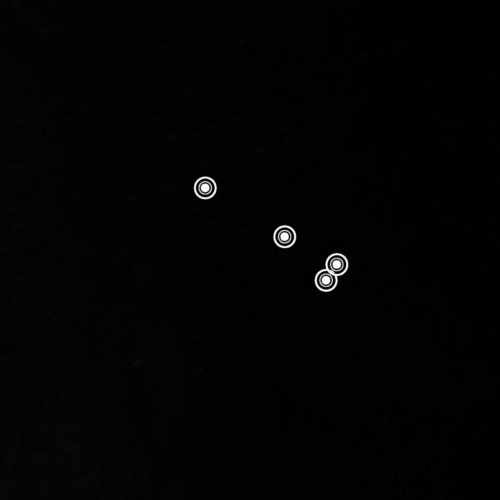sagitta: (187, 171, 356, 297)
